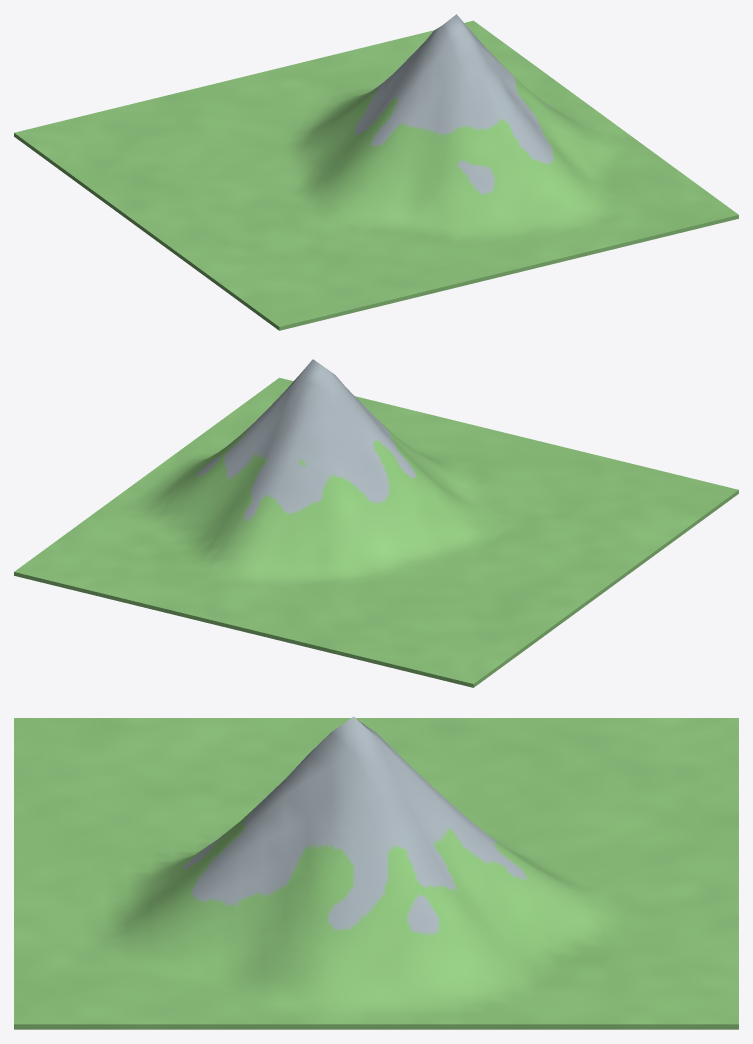
Rendered from Grass_RockyMountains_03.obj.
The picture shows the model from 3 angles, top to bottom: view 1: azimuth 30°, elevation 25°; view 2: azimuth 150°, elevation 25°; view 3: azimuth 270°, elevation 25°; orthographic projection. The views are drawn at different scales.
Size of the model in its own units: 10 by 3.16 by 10.
Materials: 1 (1 with a texture image).
